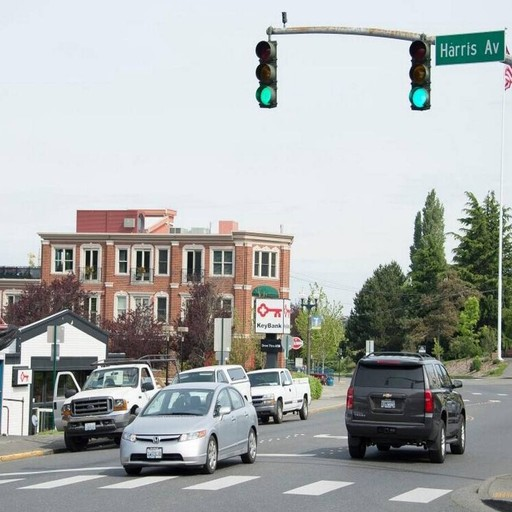car: (343, 350, 470, 465), (117, 378, 262, 474)
truck: (58, 364, 166, 448), (245, 364, 314, 426)
